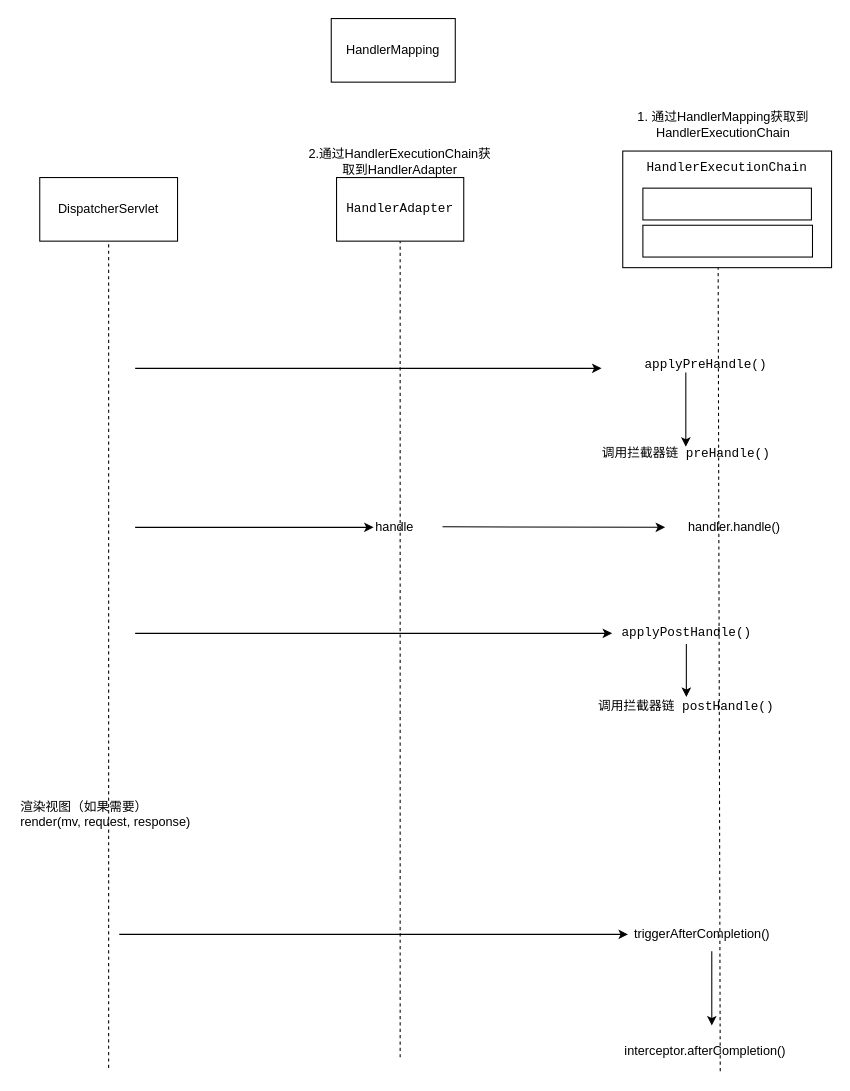
Some shapes in this 850 by 1091 pixel diagram are drawn without their labels. Each missing label, with the centre of its shape:
"Handler" belongs at (726,203).
"HandlerInterceptor[]" belongs at (727,240).
